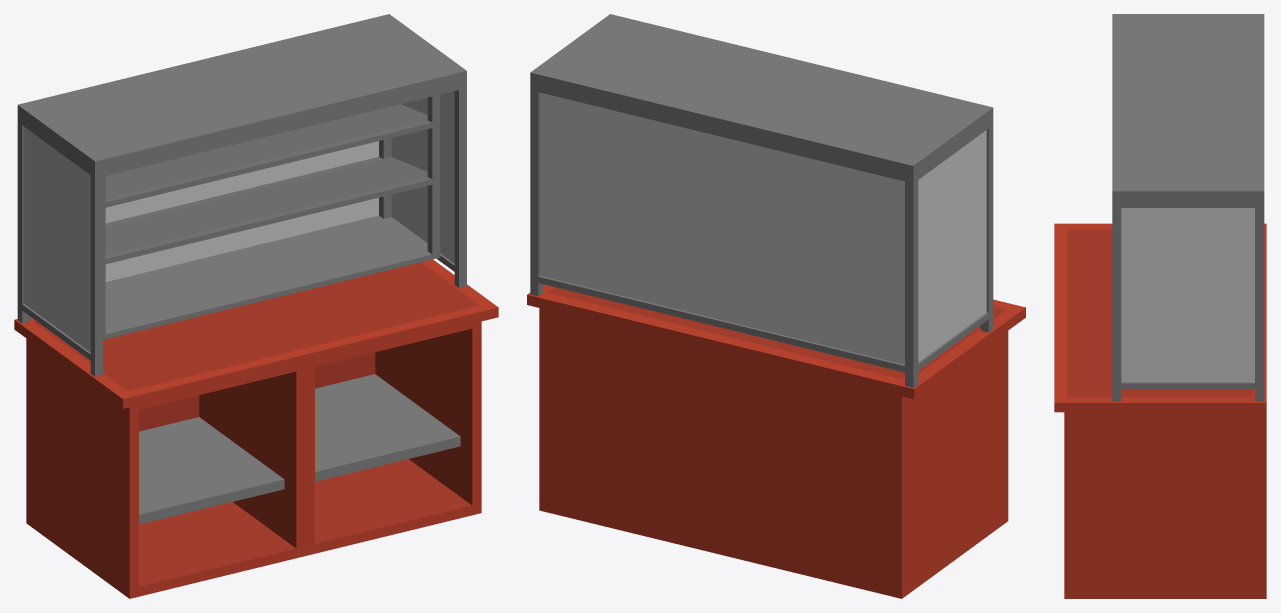
File: Int_KitchenServDesk03.fbx
3 renders of one model, left to right at view 1: azimuth 30°, elevation 25°; view 2: azimuth 150°, elevation 25°; view 3: azimuth 270°, elevation 25°, orthographic. The views are drawn at different scales.
Visible parts, largest first — view 1: Int_KitchenServDesk03; view 2: Int_KitchenServDesk03; view 3: Int_KitchenServDesk03.
Boxes of the visible parts, left/top/right/bottom form: Int_KitchenServDesk03: left=14, top=14, right=498, bottom=598; Int_KitchenServDesk03: left=527, top=14, right=1025, bottom=598; Int_KitchenServDesk03: left=1054, top=14, right=1266, bottom=598.
Size of what is drawn, in the model's own units: 200 by 100 by 215.
